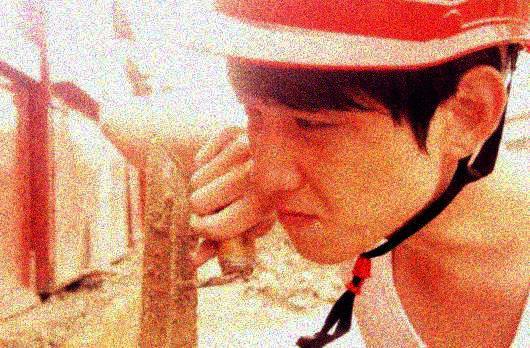helmet: (206, 1, 529, 266)
